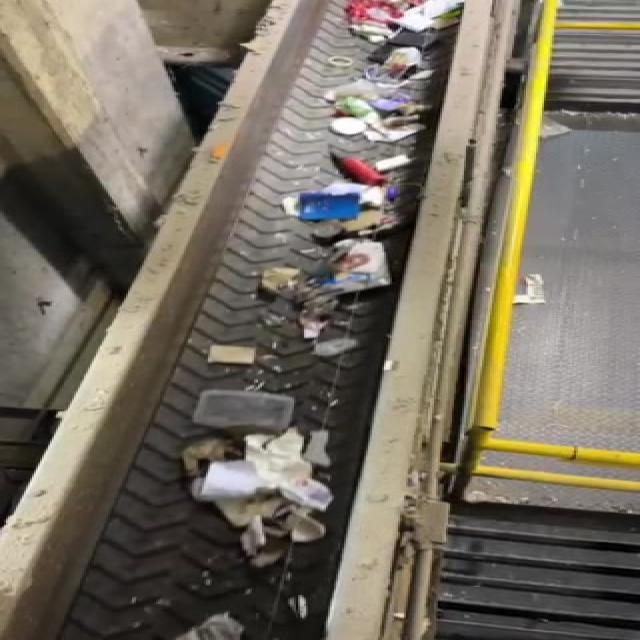paper: (165, 440, 356, 564)
pp: (178, 386, 322, 437)
